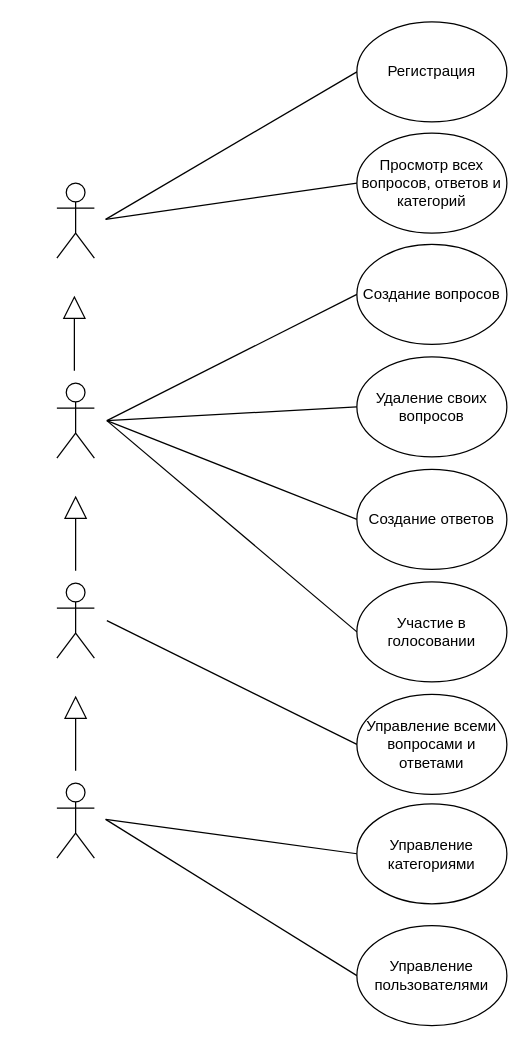
The diagram is 529 pixels wide and 1048 high, and some of its shapes have lost their labels. Each missing label, with the centre of its shape:
Администратор: the point at 75,820
Гость: the point at 75,220
Модератор: the point at 75,620
Пользователь: the point at 75,420
